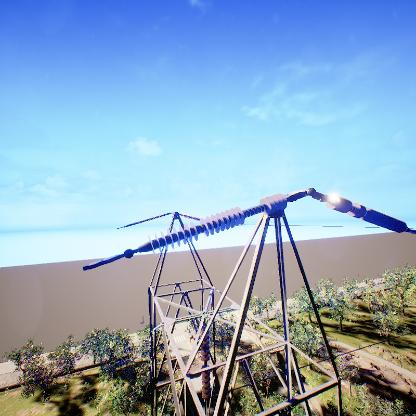insulator: (146, 192, 289, 255), (326, 192, 409, 234), (199, 328, 211, 400)
